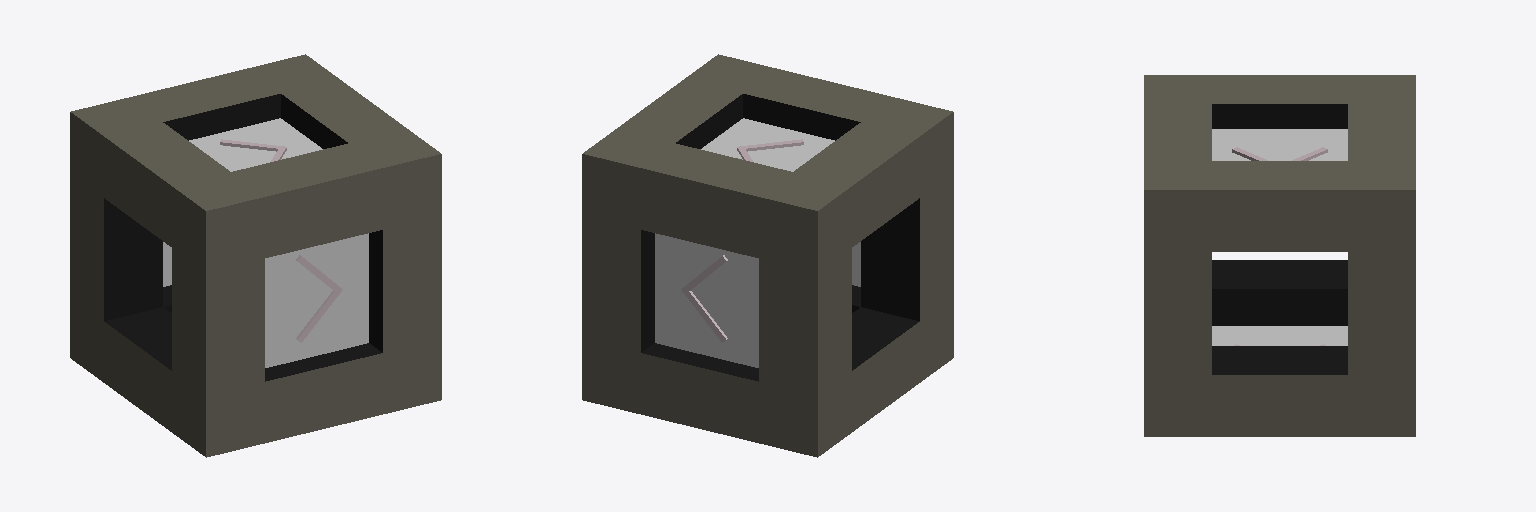
The model's file is duct.obj.
The picture shows the model from 3 angles: view 1: azimuth 30°, elevation 25°; view 2: azimuth 150°, elevation 25°; view 3: azimuth 270°, elevation 25°; orthographic projection.
Parts seen in each view (by area): view 1: covering, inner, panel.001, panel, panel-arrow.001; view 2: covering, inner, panel.003, panel, panel-arrow.003; view 3: covering, inner, panel, panel.002.
Boxes of the visible parts, x1=… form: covering: x1=70, y1=54, x2=441, y2=457; inner: x1=104, y1=94, x2=382, y2=381; panel.001: x1=265, y1=233, x2=368, y2=367; panel: x1=189, y1=118, x2=322, y2=171; panel-arrow.001: x1=296, y1=255, x2=342, y2=342; covering: x1=582, y1=54, x2=953, y2=457; inner: x1=641, y1=94, x2=919, y2=381; panel.003: x1=655, y1=233, x2=758, y2=367; panel: x1=701, y1=118, x2=834, y2=171; panel-arrow.003: x1=681, y1=255, x2=727, y2=342; covering: x1=1144, y1=75, x2=1415, y2=436; inner: x1=1212, y1=104, x2=1347, y2=374; panel: x1=1212, y1=129, x2=1347, y2=160; panel.002: x1=1212, y1=326, x2=1347, y2=345.
Size of the model in its own units: 1 by 1 by 1.